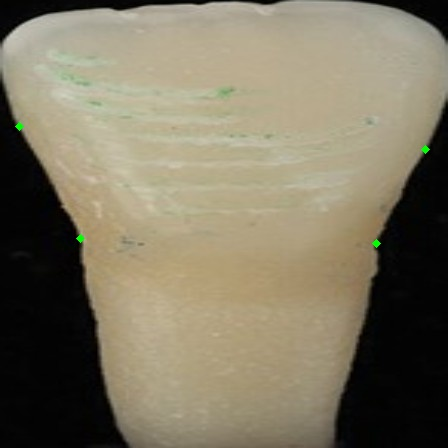coin_1: (376, 243, 396, 263)
coin_2: (425, 149, 445, 169)
coin_3: (80, 238, 100, 258)
coin_4: (19, 126, 39, 146)
